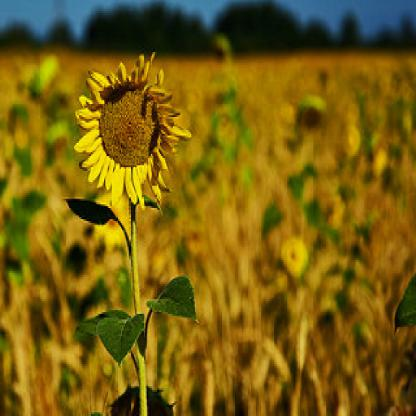SUN FLOWER: (25, 46, 298, 369)
